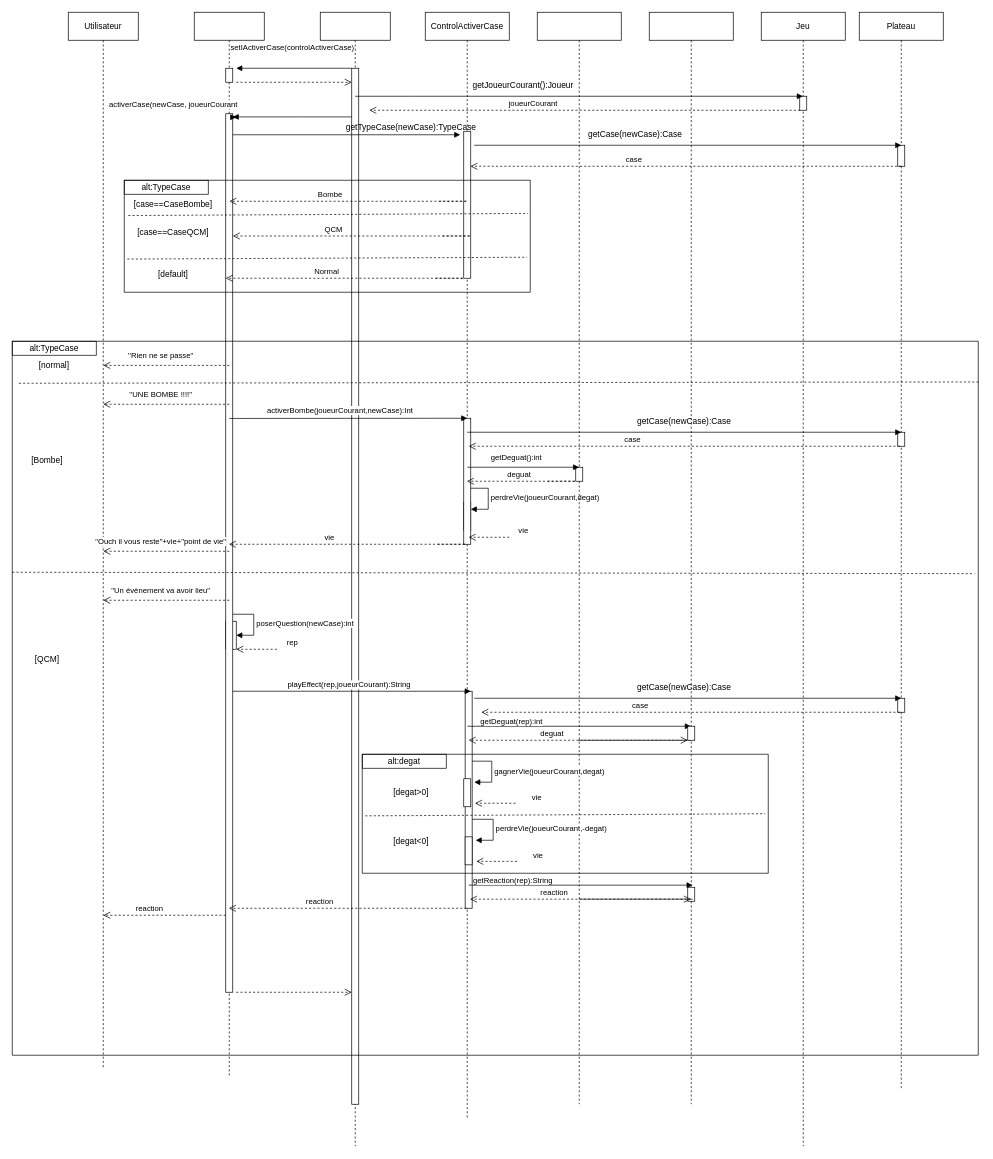
The diagram is 993 pixels wide and 1159 high, and some of its shapes have lost their labels. Here are the shapes that lost their labels. From the top down, the box of each, then its label:
(194, 12, 264, 1076): boundaryJeuPirate
(537, 12, 621, 1104): CaseBombe
(649, 12, 733, 1104): CaseQCM
(320, 12, 390, 1146): ControlJeuPirate
